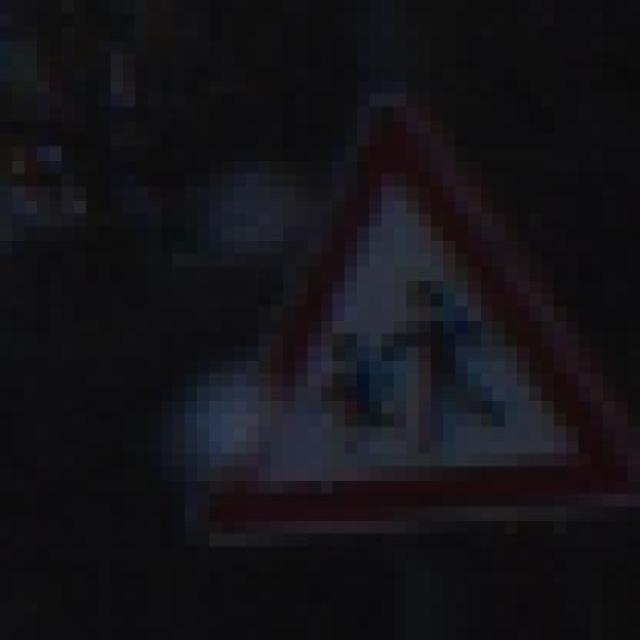Beware of children: (197, 107, 628, 547)
